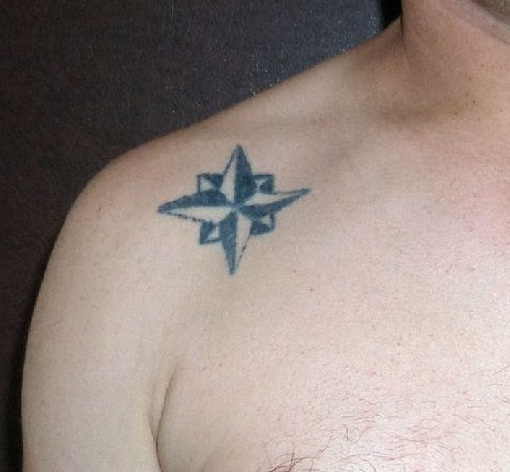tatu4_zvezda: (149, 137, 318, 271)
